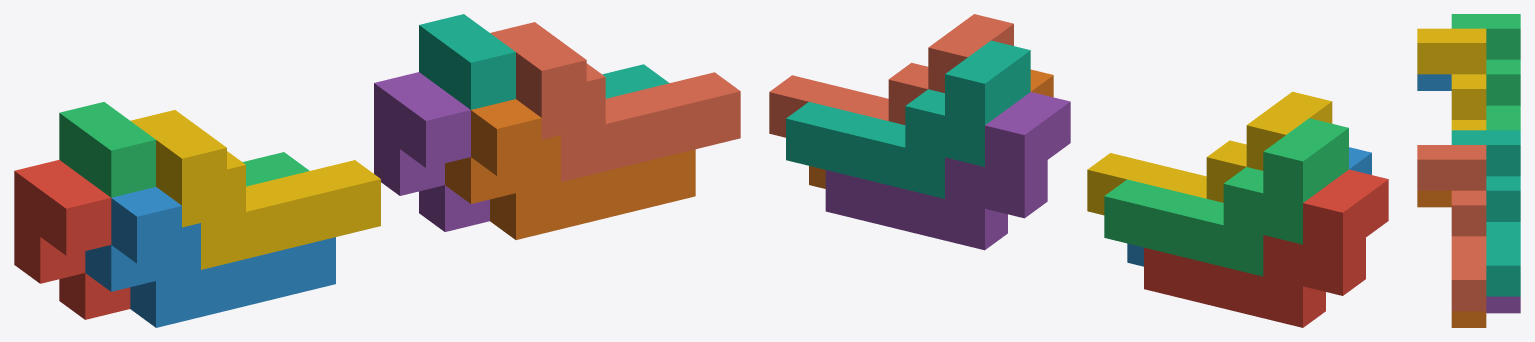
File: tiling.obj
3 views of the same model, side by side, from view 1: azimuth 30°, elevation 25°; view 2: azimuth 150°, elevation 25°; view 3: azimuth 270°, elevation 25° (orthographic). The views are drawn at different scales.
Parts seen in each view (by area): view 1: copy_1_domain_8, copy_1_domain_4, copy_1_domain_6, copy_1_domain_2, copy_1_domain_1, copy_1_domain_5, copy_1_domain_7, copy_1_domain_3; view 2: copy_1_domain_3, copy_1_domain_7, copy_1_domain_5, copy_1_domain_1, copy_1_domain_4, copy_1_domain_8, copy_1_domain_6, copy_1_domain_2; view 3: copy_1_domain_8, copy_1_domain_7, copy_1_domain_4, copy_1_domain_3, copy_1_domain_6, copy_1_domain_5, copy_1_domain_2.
Boxes of the visible parts, x1,y1,x2,y2 form: copy_1_domain_8: (490, 22, 740, 181); copy_1_domain_4: (130, 110, 380, 269); copy_1_domain_6: (445, 99, 695, 239); copy_1_domain_2: (85, 187, 335, 327); copy_1_domain_1: (14, 160, 130, 319); copy_1_domain_5: (374, 72, 489, 231); copy_1_domain_7: (419, 14, 669, 109); copy_1_domain_3: (59, 102, 309, 197); copy_1_domain_3: (1104, 118, 1348, 276); copy_1_domain_7: (786, 40, 1030, 198); copy_1_domain_5: (825, 92, 1070, 250); copy_1_domain_1: (1144, 169, 1388, 327); copy_1_domain_4: (1087, 91, 1332, 215); copy_1_domain_8: (769, 14, 1013, 137); copy_1_domain_6: (809, 69, 1053, 188); copy_1_domain_2: (1127, 147, 1371, 266); copy_1_domain_8: (1417, 145, 1486, 311); copy_1_domain_7: (1451, 130, 1520, 296); copy_1_domain_4: (1417, 28, 1486, 130); copy_1_domain_3: (1451, 14, 1520, 130); copy_1_domain_6: (1417, 190, 1486, 327); copy_1_domain_5: (1486, 296, 1520, 313); copy_1_domain_2: (1417, 74, 1451, 90).
Bounding box in the file's own units: 15 × 4 × 3.
